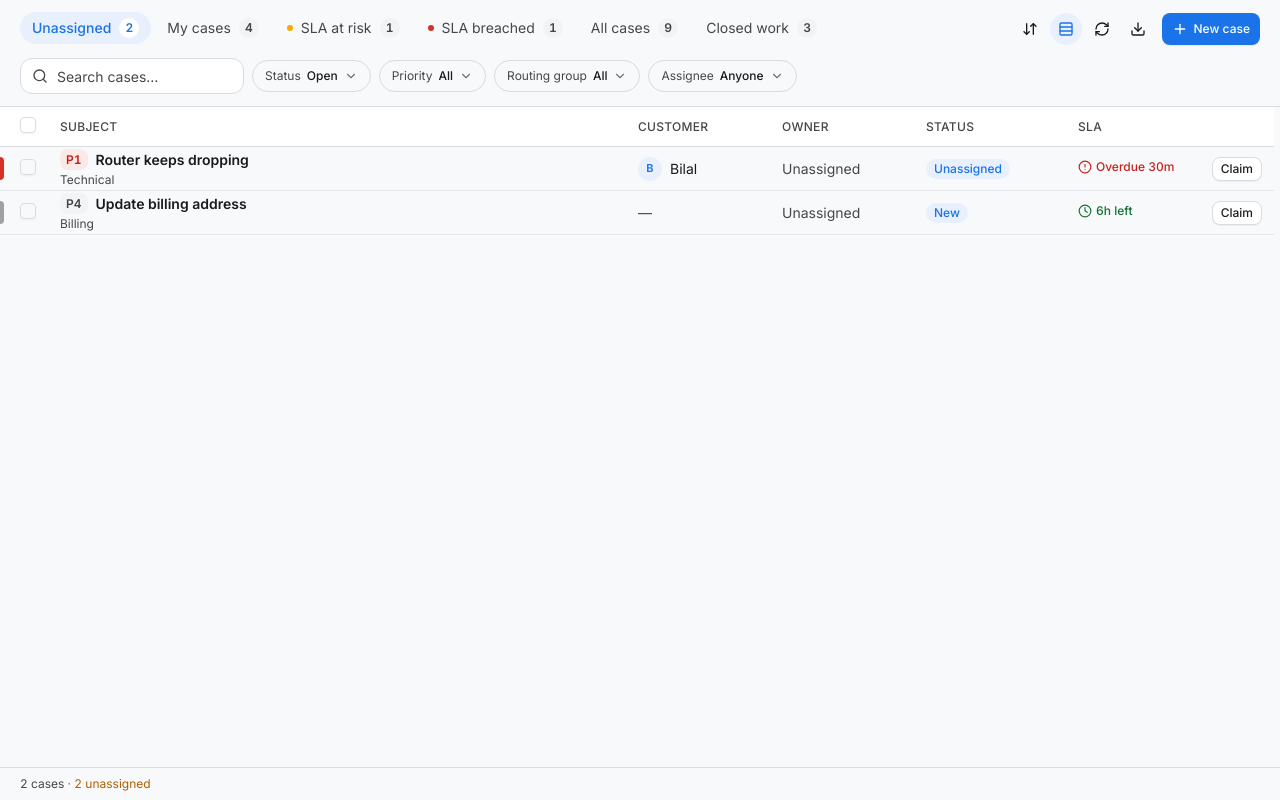
Scenario: case Workbench › claims a case from the unassigned list and opens it in the pane
The image size is (1280, 800).
Expected: the text "Update billing address" is shown, [96,194,247,214]
Click the button "Claim" in the row of "P4" at (1237, 213), box [1212,201,1262,225]
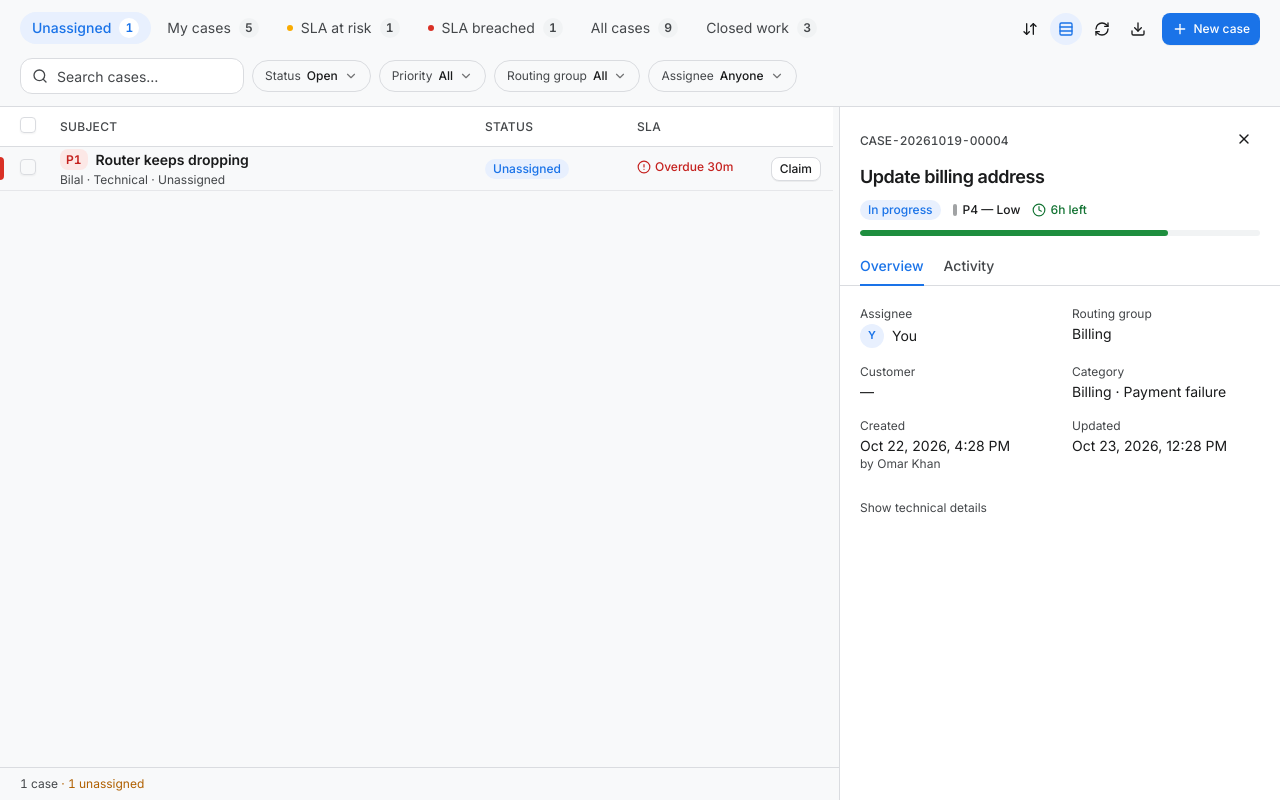
Expected: the element named "Case details" is shown, [840,107,1279,799]
